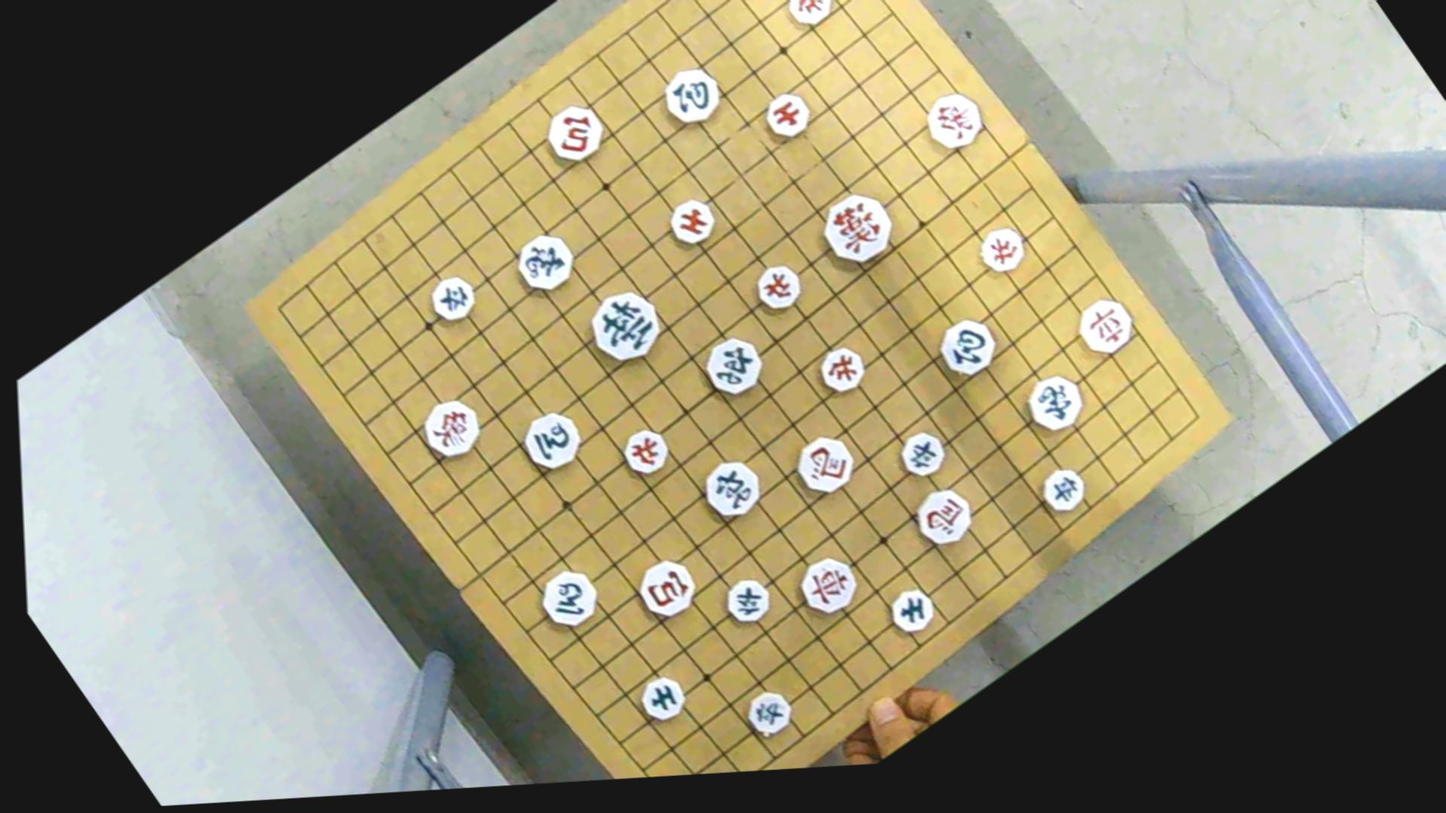cha_green: (694, 326, 773, 403), (694, 450, 770, 525)
cha_red: (787, 548, 865, 624), (1068, 289, 1143, 362)
jol_green: (422, 267, 484, 328), (892, 422, 953, 483), (737, 683, 799, 743), (718, 569, 779, 629), (1036, 462, 1091, 516)
jol_red: (746, 255, 810, 318), (970, 219, 1033, 280), (615, 422, 677, 483), (812, 340, 872, 400), (778, 0, 840, 32)
ma_green: (512, 401, 591, 479), (532, 562, 605, 634)
ma_red: (785, 425, 865, 504), (906, 479, 981, 552)
po_green: (926, 309, 1005, 385), (653, 59, 730, 133)
po_red: (537, 96, 616, 172), (627, 551, 703, 628)
sa_green: (630, 668, 692, 729), (880, 581, 941, 641)
sa_red: (659, 190, 724, 253), (755, 83, 817, 145)
sang_green: (1017, 365, 1092, 441), (507, 226, 583, 301)
sang_red: (411, 389, 493, 469), (918, 84, 990, 159)
wang_green: (580, 279, 676, 373)
wang_red: (813, 183, 901, 271)
